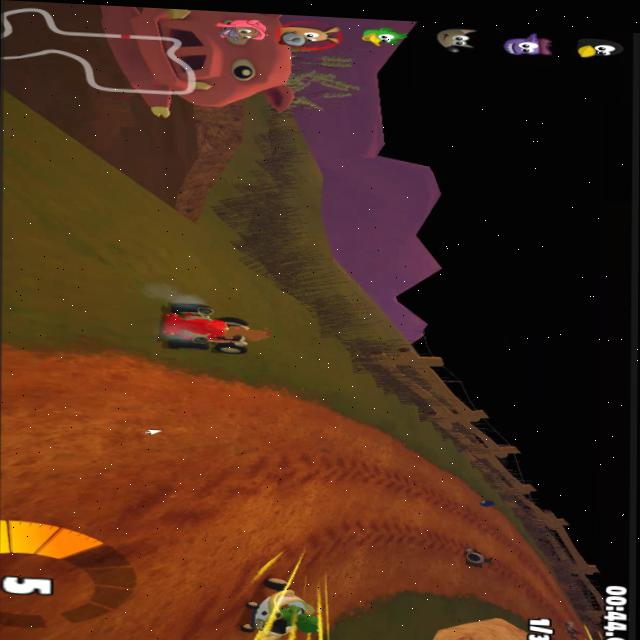enemy_kart: (224, 570, 332, 640), (449, 545, 491, 570)
nitro: (478, 495, 498, 510)
player_kart: (144, 288, 262, 364)
track: (0, 362, 185, 640), (185, 403, 325, 575), (288, 426, 396, 591), (343, 449, 406, 604), (408, 479, 463, 548), (166, 572, 221, 640), (505, 549, 551, 621), (558, 588, 595, 640), (430, 572, 492, 597), (465, 515, 513, 546), (408, 545, 443, 576)
